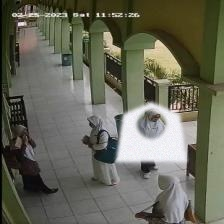Mukena: (116, 102, 186, 161)
